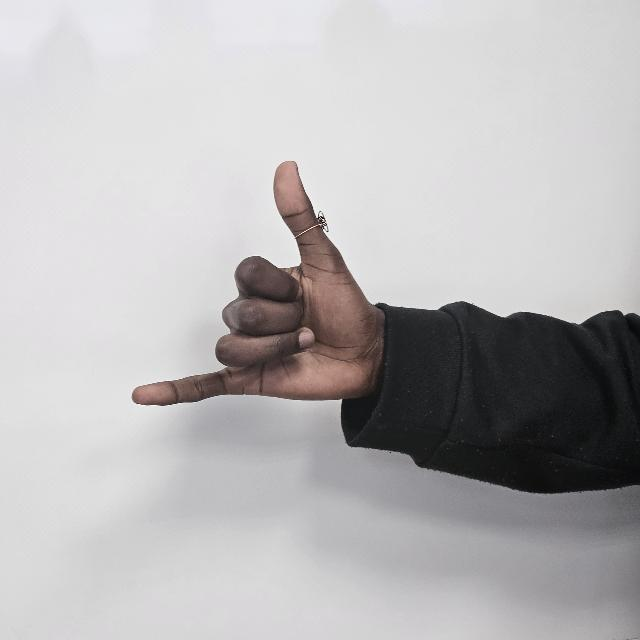Direita: (130, 158, 372, 438)
